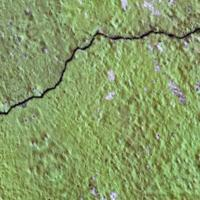crack: (0, 16, 199, 126)
